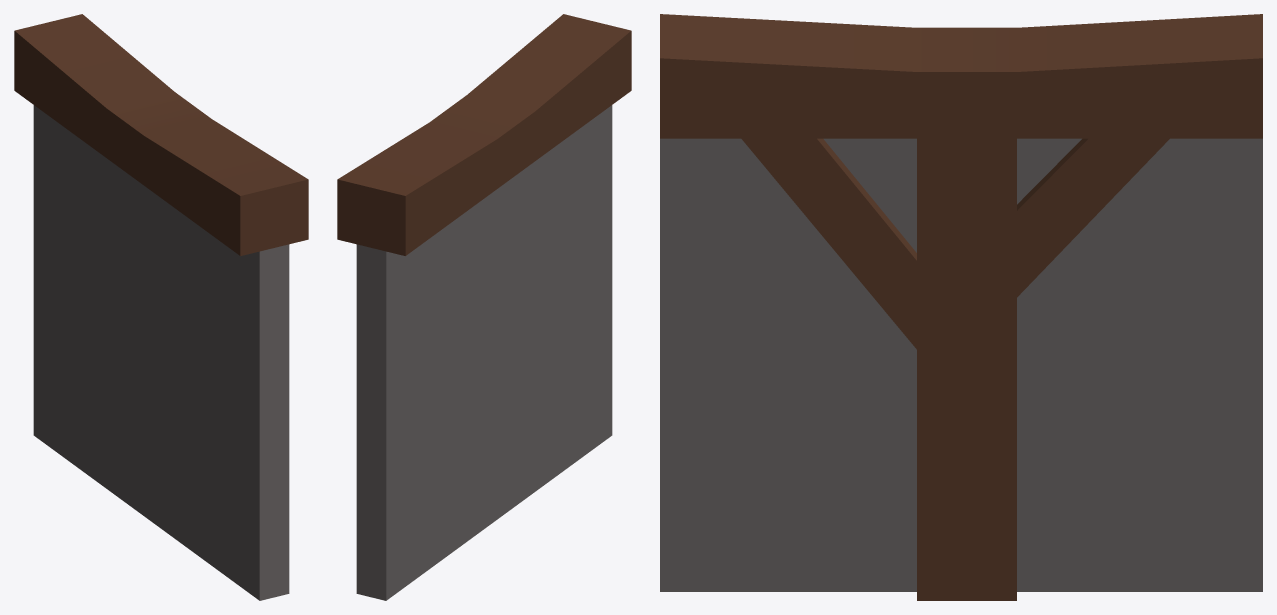
The model's file is muur_3.fbx.
The picture shows the model from 3 angles, left to right: view 1: azimuth 30°, elevation 25°; view 2: azimuth 150°, elevation 25°; view 3: azimuth 270°, elevation 25°; orthographic projection. The views are drawn at different scales.
Visible parts, largest first — view 1: muur_3; view 2: muur_3; view 3: muur_3.
Boxes of the visible parts, x1,y1,x2,y2 form: muur_3: [14, 14, 308, 600]; muur_3: [337, 14, 631, 600]; muur_3: [660, 14, 1262, 600].
Size of the model in its own units: 0.3476 by 2 by 2.
